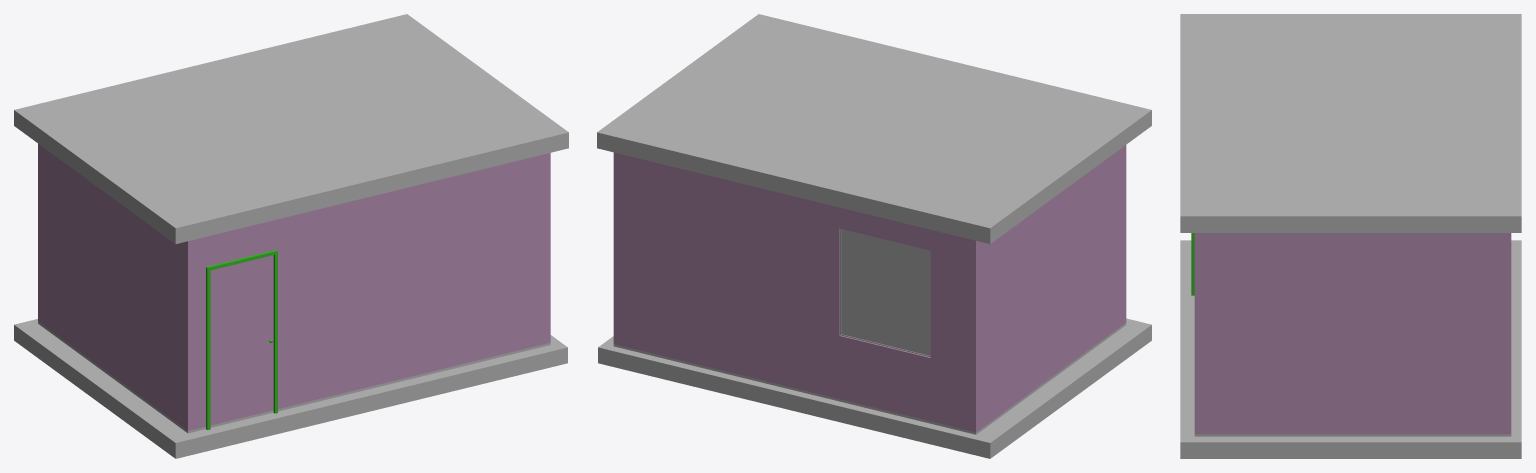
Rendered from FloorPlan316.fbx.
The picture shows the model from 3 angles, left to right: view 1: azimuth 30°, elevation 25°; view 2: azimuth 150°, elevation 25°; view 3: azimuth 270°, elevation 25°; orthographic projection. The views are drawn at different scales.
Parts seen in each view (by area): view 1: StandardWallSize.013, Ceiling.012, Floor.012, StandardDoorFrame1.011; view 2: StandardWallSize.013, Ceiling.012, Floor.012; view 3: Ceiling.012, StandardWallSize.013, Floor.012.
Part boxes in pixels (bbox=[...]): StandardWallSize.013: bbox=[38, 143, 550, 433]; Ceiling.012: bbox=[14, 14, 568, 243]; Floor.012: bbox=[14, 319, 567, 458]; StandardDoorFrame1.011: bbox=[206, 249, 277, 430]; StandardWallSize.013: bbox=[613, 145, 1126, 434]; Ceiling.012: bbox=[597, 14, 1151, 243]; Floor.012: bbox=[598, 318, 1151, 458]; Ceiling.012: bbox=[1180, 14, 1521, 232]; StandardWallSize.013: bbox=[1194, 233, 1511, 436]; Floor.012: bbox=[1180, 240, 1521, 458].
Bounding box in the file's own units: 517 × 290 × 369.
